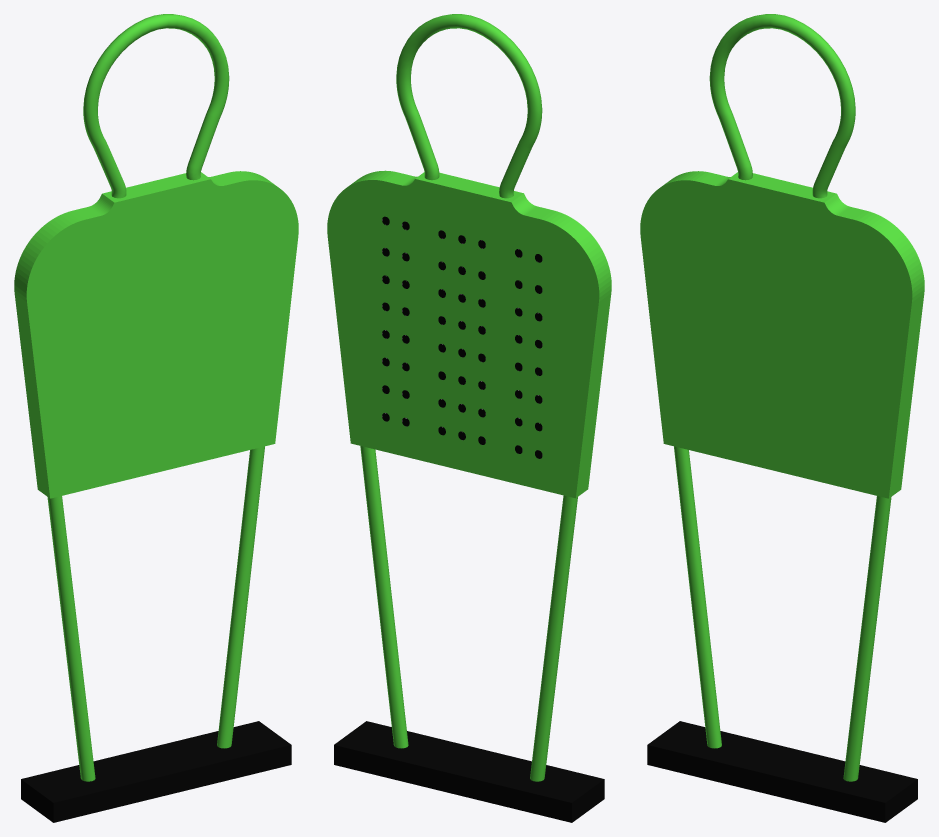
File: dummy.glb
3 renders of one model, left to right at view 1: azimuth 30°, elevation 25°; view 2: azimuth 150°, elevation 25°; view 3: azimuth 330°, elevation 25°, orthographic.
Visible parts, largest first — view 1: Cube; view 2: Cube, Plane; view 3: Cube.
Boxes of the visible parts, bbox=[...] form: Cube: bbox=[14, 14, 298, 822]; Cube: bbox=[327, 14, 611, 822]; Plane: bbox=[382, 216, 542, 458]; Cube: bbox=[640, 14, 924, 822].
Size of what is drawn, in the model's own units: 1.64 by 4.41 by 0.3403.
Materials: 3 (1 with a texture image).
